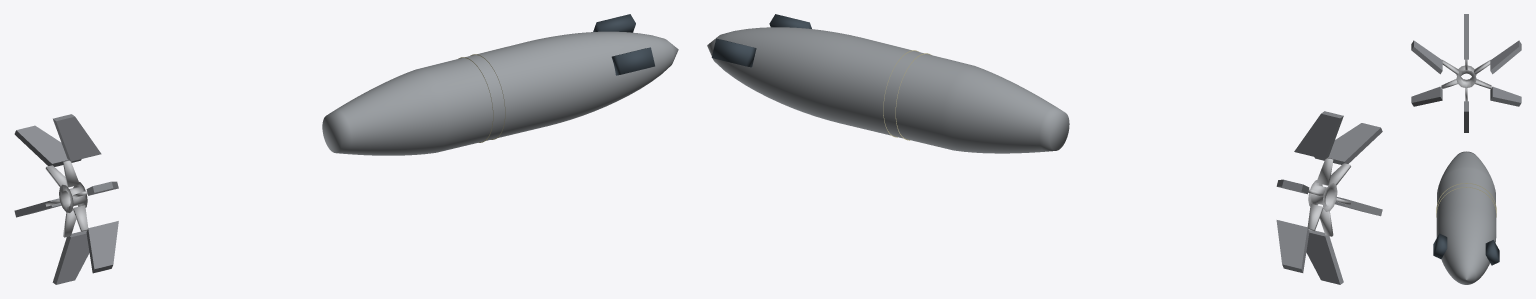
The model's file is CN_TORP_Yu7_LOD0.fbx.
The picture shows the model from 3 angles, left to right: view 1: azimuth 30°, elevation 25°; view 2: azimuth 150°, elevation 25°; view 3: azimuth 270°, elevation 25°; orthographic projection. The views are drawn at different scales.
Visible parts, largest first — view 1: WPN_CN_TORP_Yu7_LOD0_Body, WPN_CN_TORP_Yu7_LOD0_Fins, WPN_CN_TORP_Yu7_LOD0_Propulsor, WPN_CN_TORP_Yu7_LOD0_Seeker; view 2: WPN_CN_TORP_Yu7_LOD0_Body, WPN_CN_TORP_Yu7_LOD0_Fins, WPN_CN_TORP_Yu7_LOD0_Propulsor, WPN_CN_TORP_Yu7_LOD0_Seeker; view 3: WPN_CN_TORP_Yu7_LOD0_Body, WPN_CN_TORP_Yu7_LOD0_Fins, WPN_CN_TORP_Yu7_LOD0_Propulsor, WPN_CN_TORP_Yu7_LOD0_Seeker, WPN_CN_TORP_Yu7_LOD0_Marking.
Boxes of the visible parts, x1,y1,x2,y2 form: WPN_CN_TORP_Yu7_LOD0_Body: (322, 31, 678, 155); WPN_CN_TORP_Yu7_LOD0_Fins: (14, 114, 118, 284); WPN_CN_TORP_Yu7_LOD0_Propulsor: (45, 160, 88, 237); WPN_CN_TORP_Yu7_LOD0_Seeker: (593, 14, 654, 75); WPN_CN_TORP_Yu7_LOD0_Body: (707, 27, 1069, 153); WPN_CN_TORP_Yu7_LOD0_Fins: (1276, 111, 1382, 284); WPN_CN_TORP_Yu7_LOD0_Propulsor: (1307, 158, 1350, 236); WPN_CN_TORP_Yu7_LOD0_Seeker: (711, 14, 811, 67); WPN_CN_TORP_Yu7_LOD0_Body: (1436, 151, 1496, 284); WPN_CN_TORP_Yu7_LOD0_Fins: (1411, 14, 1521, 132); WPN_CN_TORP_Yu7_LOD0_Propulsor: (1441, 59, 1491, 101); WPN_CN_TORP_Yu7_LOD0_Seeker: (1433, 233, 1499, 265); WPN_CN_TORP_Yu7_LOD0_Marking: (1436, 183, 1496, 217).
Size of the model in its own units: 2.68 by 0.5959 by 0.6732.
